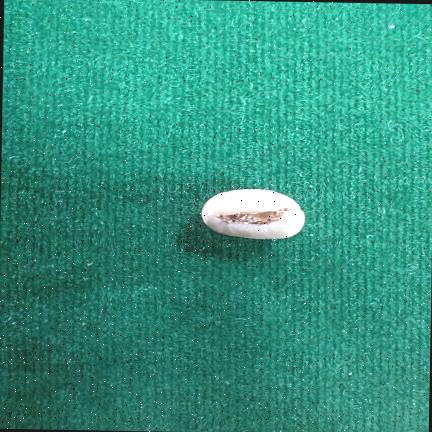immature: (201, 189, 304, 238)
